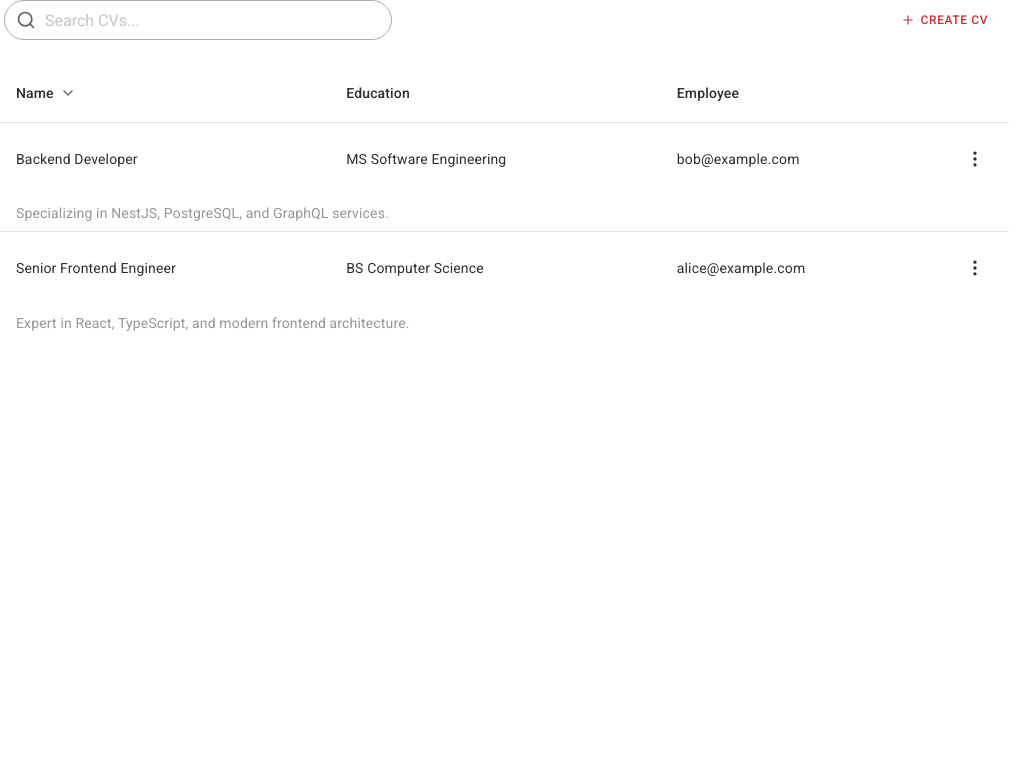
Test: CVTable Component › opens Update CV dialog when clicking Update in row dropdown
Click the button named "actions for user cv-". click: (975, 159)
box: [957,141,993,177]
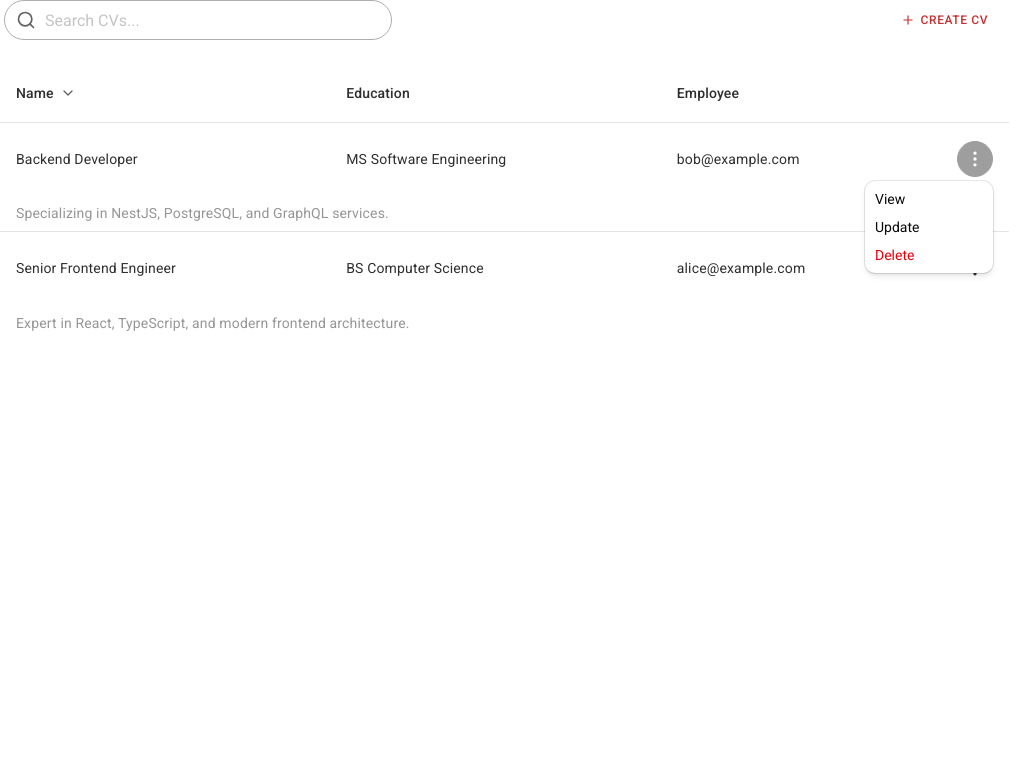
Click the menu item "Update". click: (897, 227)
box: [875,219,920,235]
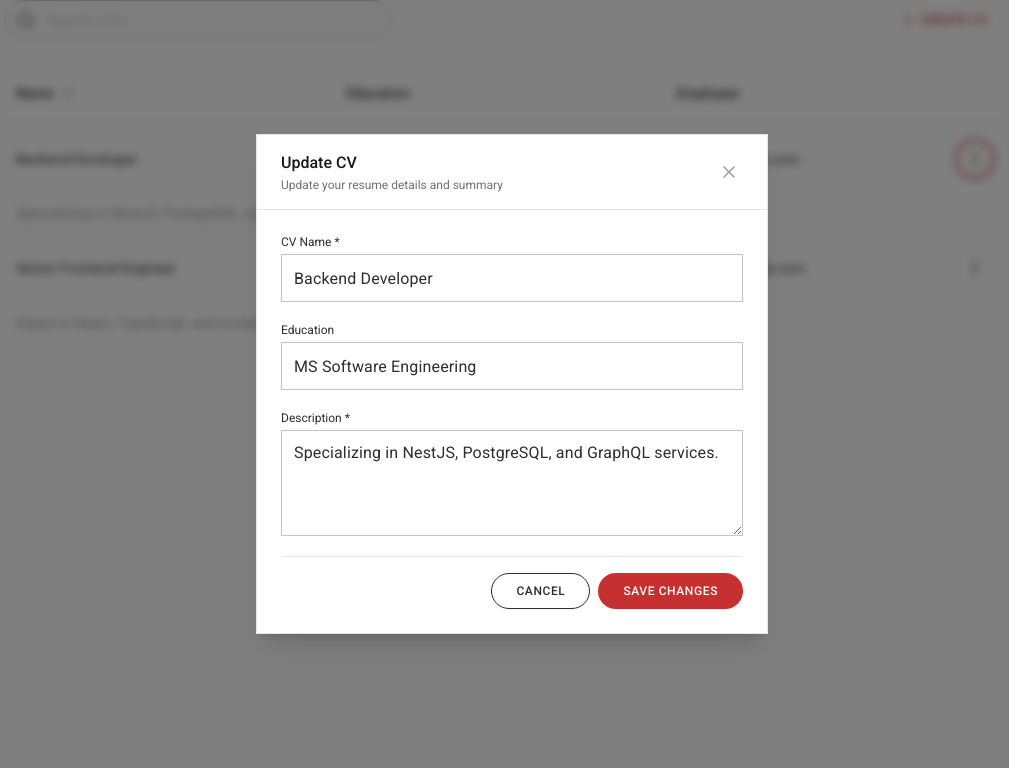
Check: the heading "Update CV" is shown, box [281,153,357,172]
Check: the field labelled "CV Name *" holds "Backend Developer", box [281,254,743,302]
Check: the field labelled "Education" holds "MS Software Engineering", box [281,342,743,390]
